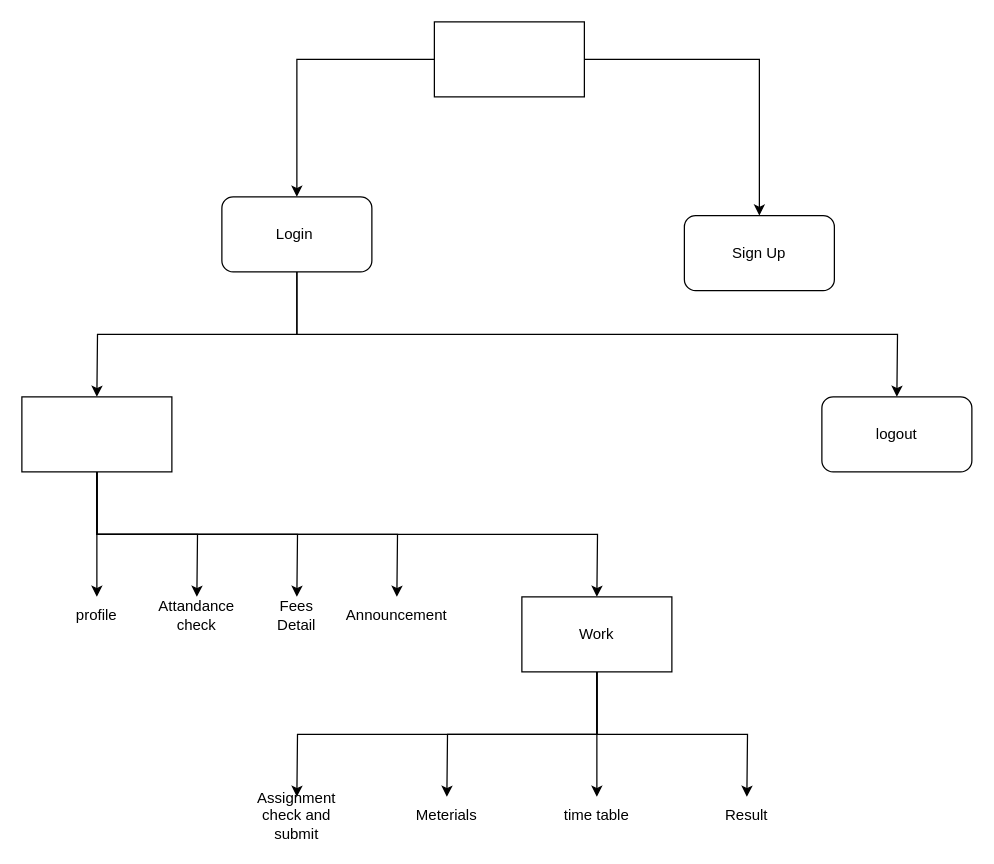
The diagram is 994 pixels wide and 864 high, and some of its shapes have lost their labels. The centre of each missing label's shape, as x and y in pixels:
"Dashboard" belongs at (96,434).
"Student Hub Portal" belongs at (508,59).
